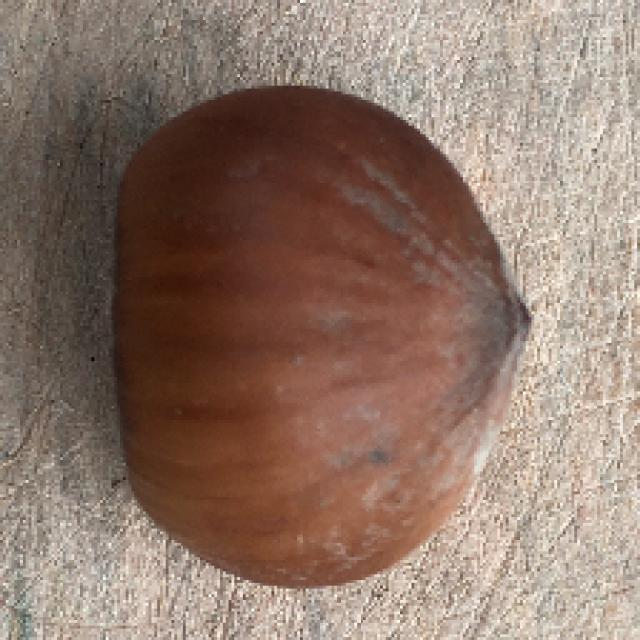qualityHazelnut: (94, 79, 534, 589)
